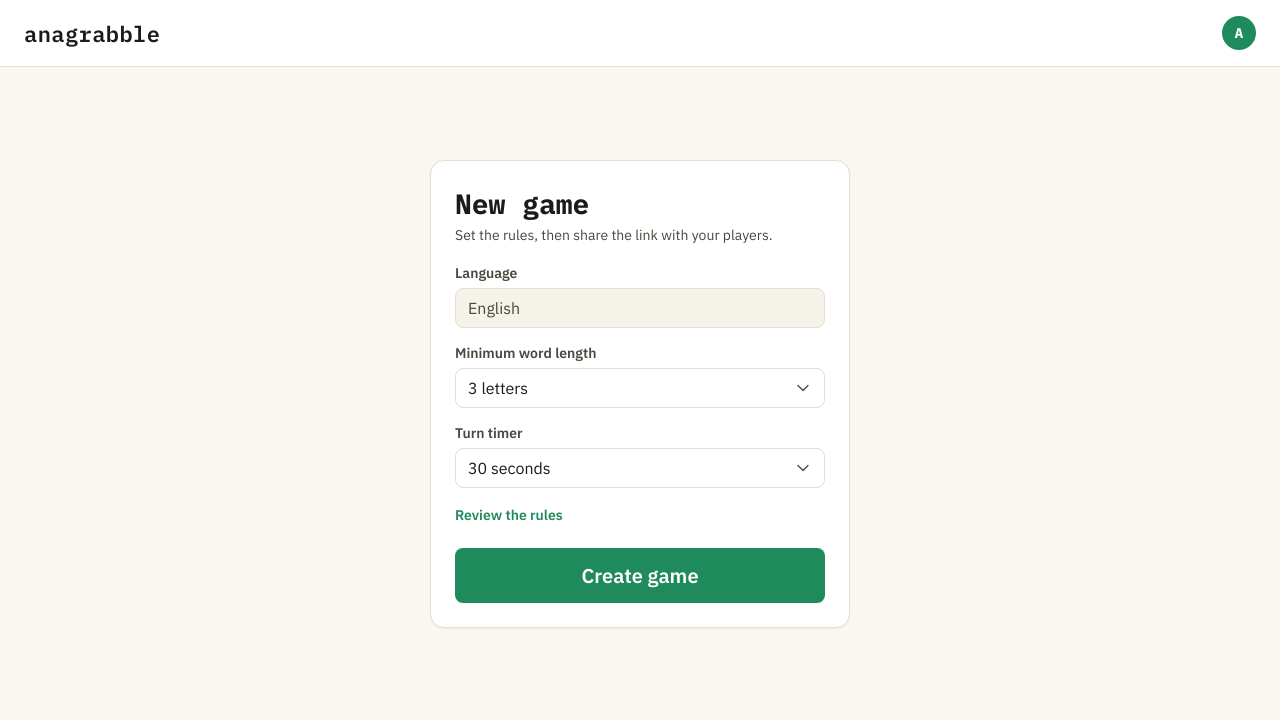
Test: NewGamePage › shows a generic message and re-enables the button on any failure
This screenshot has width=1280, height=720.
Click the button "Create game" at (640, 575), box [455,548,825,602]
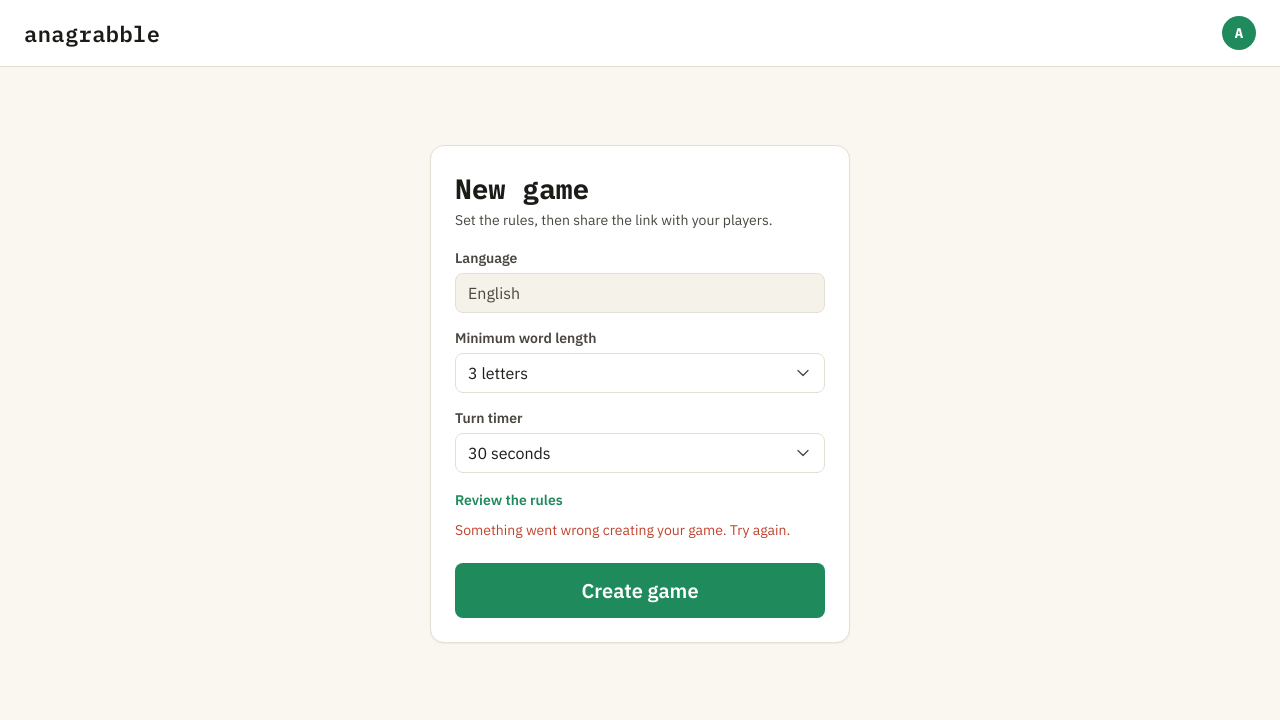
Expected: the button "Create game" is enabled, [455,562,825,618]
Expected: the text "Something went wrong creating your game. Try again." is shown, [455,520,825,538]
